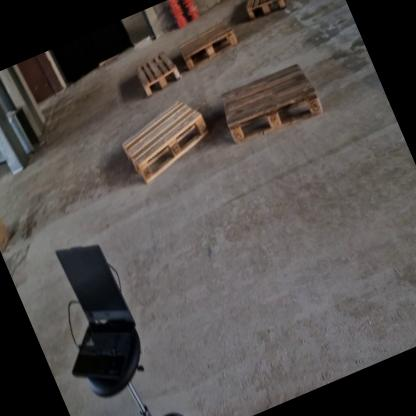BoxFace: (219, 57, 327, 150), (117, 91, 212, 189), (174, 17, 243, 73), (131, 44, 185, 96), (243, 0, 290, 27)
